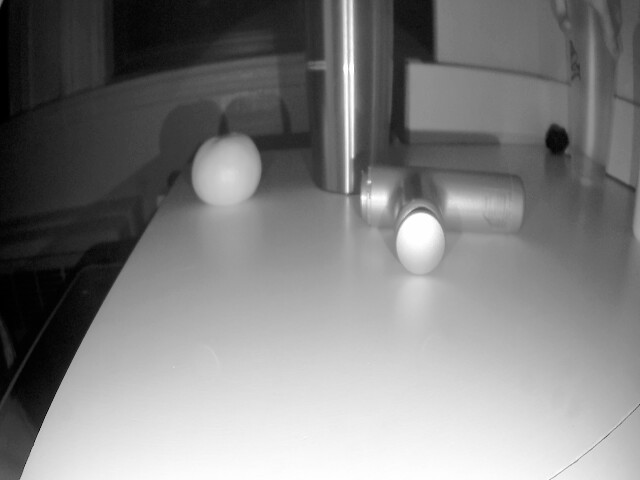silver: (544, 118, 568, 159)
